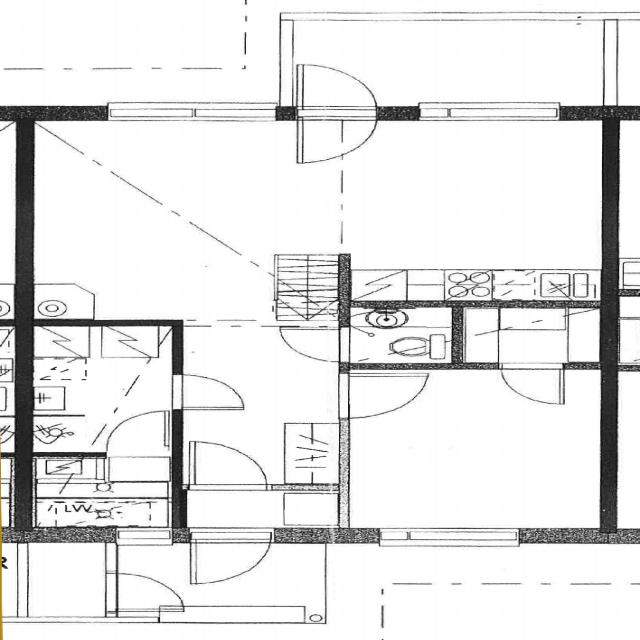door: (297, 60, 377, 120), (191, 528, 271, 588), (297, 106, 377, 165), (340, 372, 428, 418), (189, 440, 267, 490), (106, 573, 184, 611), (501, 363, 563, 404), (172, 374, 244, 409), (278, 327, 349, 362), (106, 419, 164, 456)
